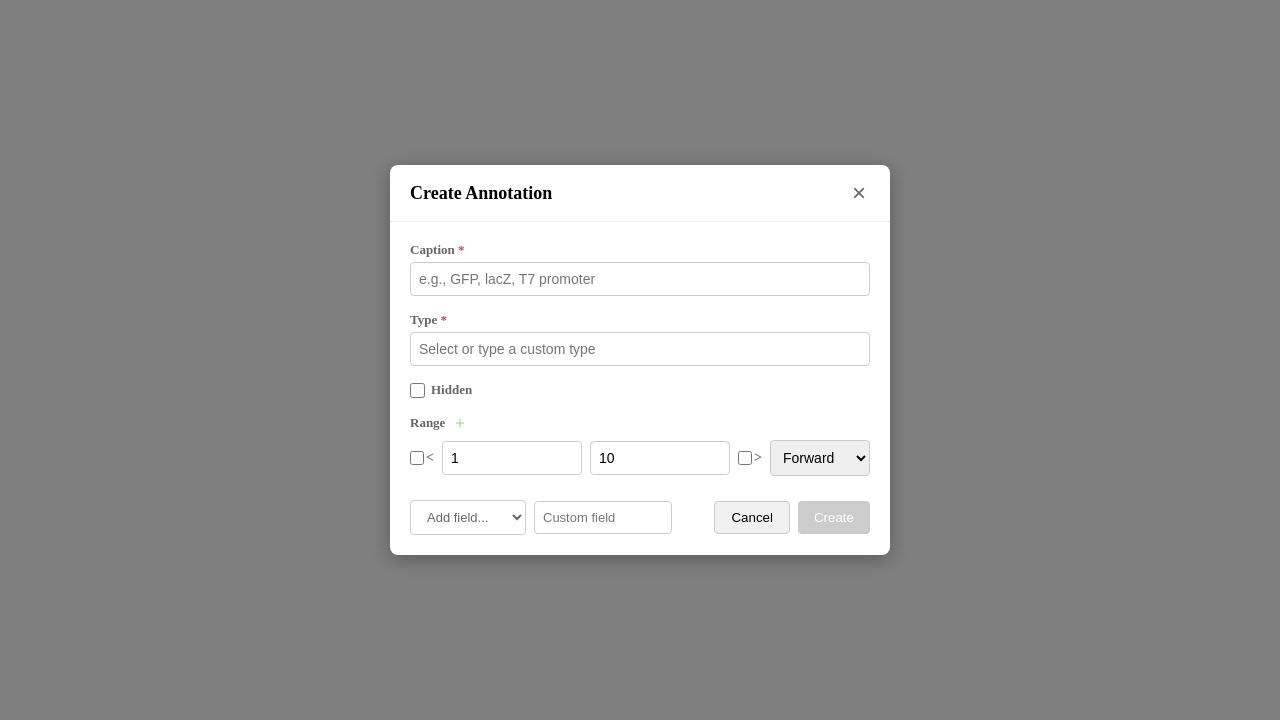
Test: AnnotationModal › form validation › Create button is disabled when any range is incomplete
Type "GFP" into the field with id "annotation-caption".
click(640, 279); type("GFP")  # box [410, 262, 870, 296]
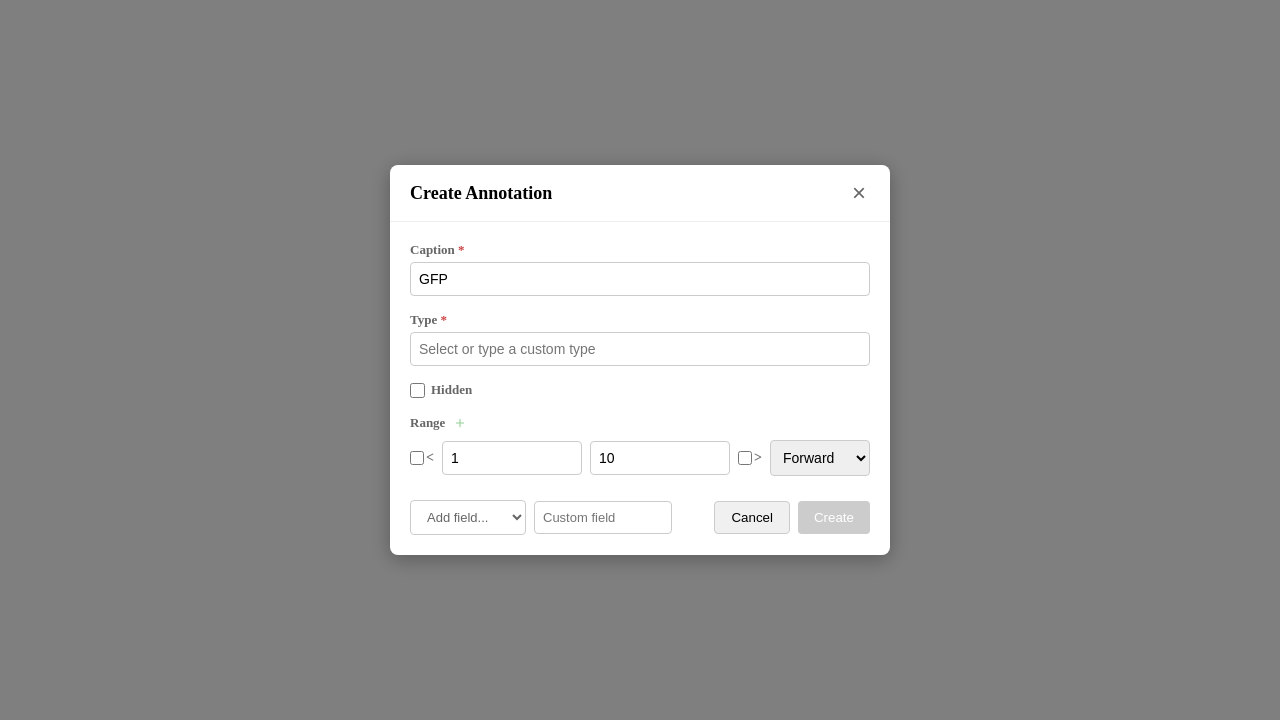
Type "gene" into the field with id "annotation-type".
click(640, 349); type("gene")  # box [410, 332, 870, 366]
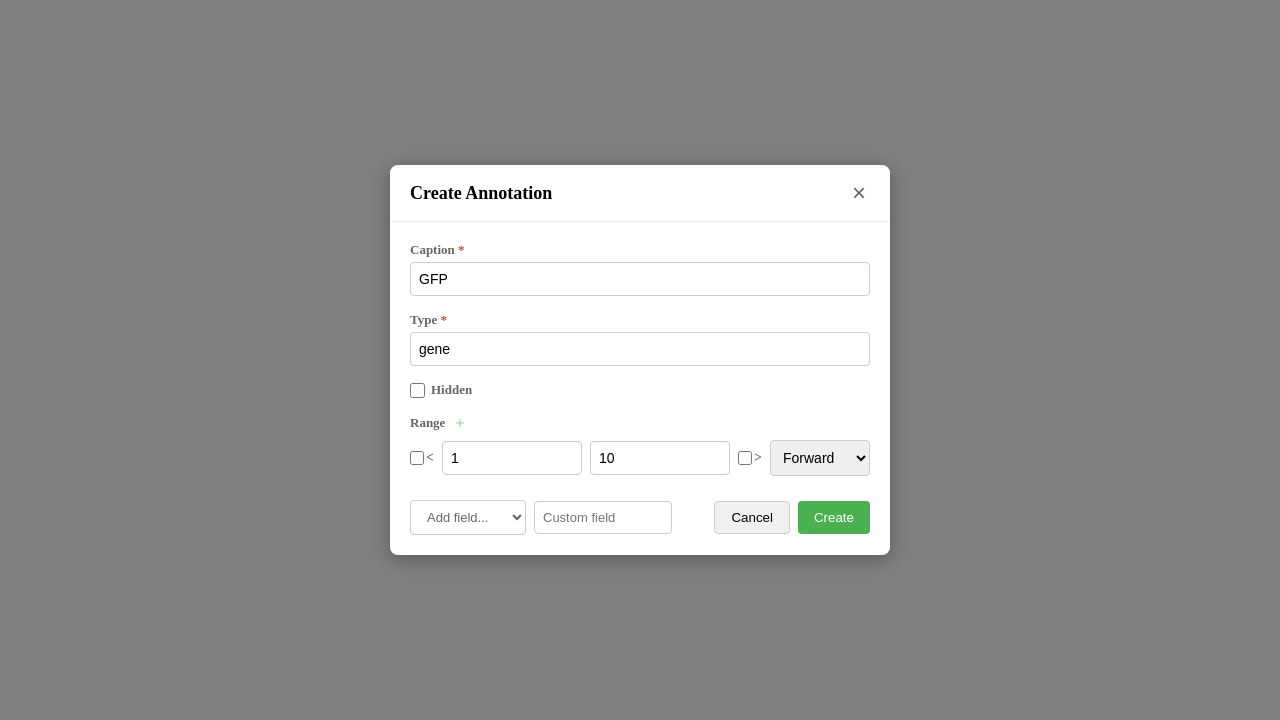
Note: Add another range (which will be empty)
Click the button with class "btn-add-range".
click(460, 423)  # box [451, 414, 469, 432]
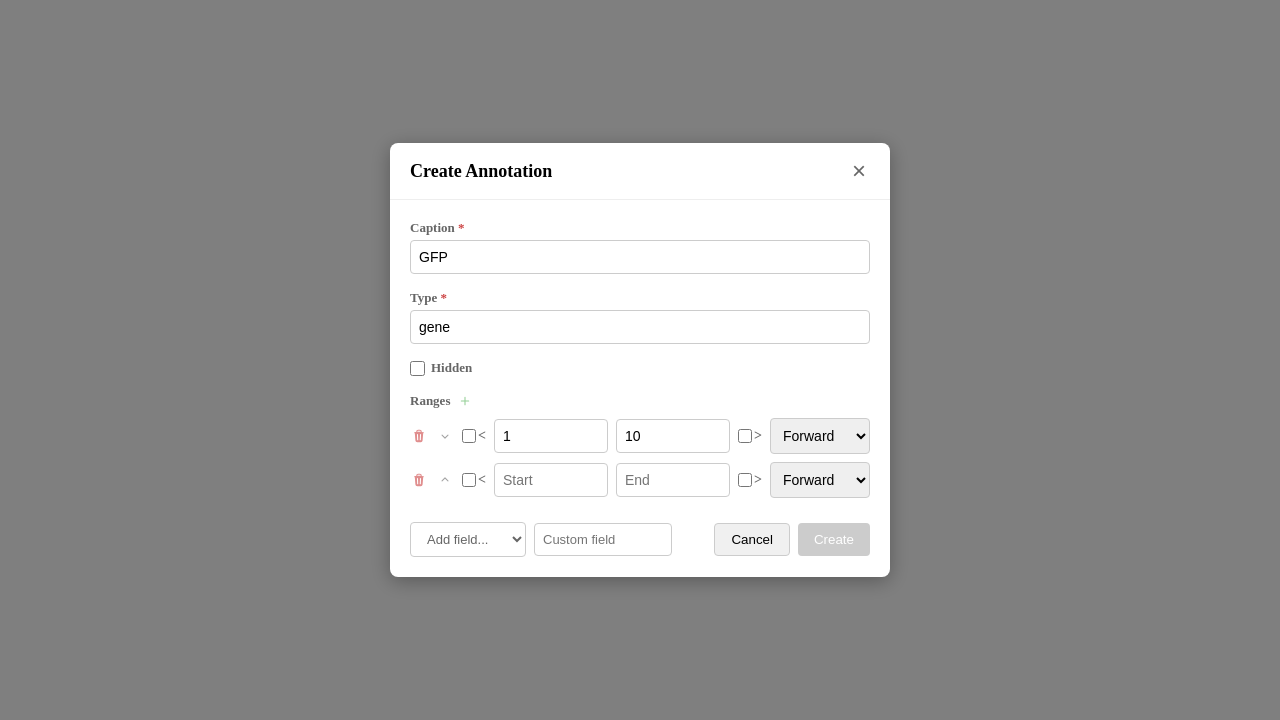
Now the button with class "btn-create" is disabled, box [798, 523, 870, 556]
